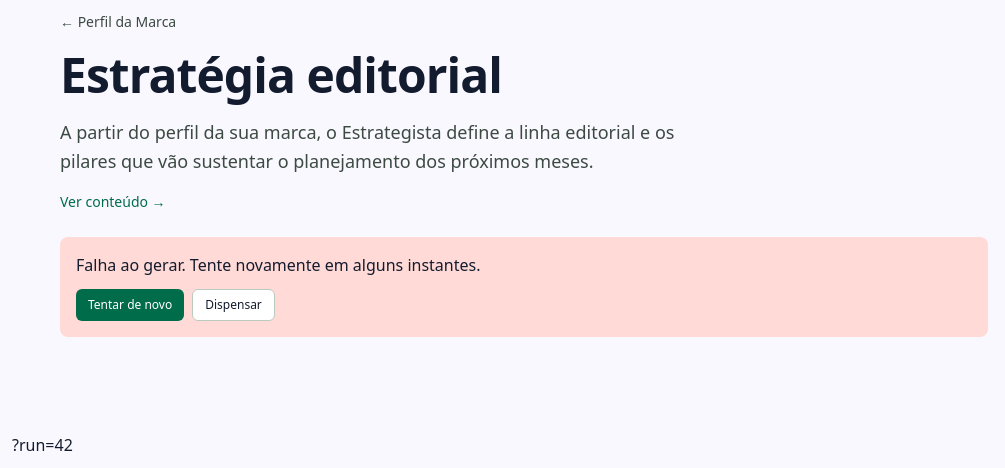
Test: falha transiente oferece tentar de novo, e o clique dispara um POST novo
Click the button "Tentar de novo" at x=130, y=305, box [76,289,184,321]
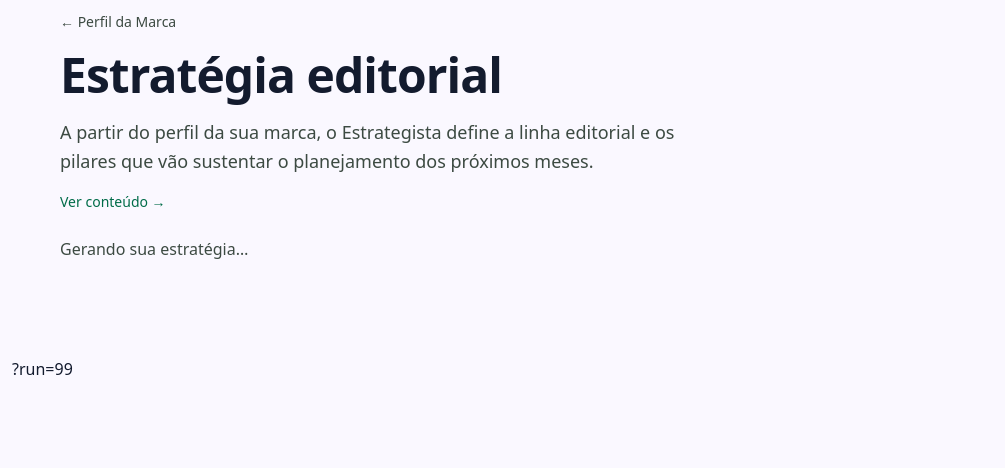
Expected: the text "Gerando sua estratégia…" is shown, [60,238,248,260]
